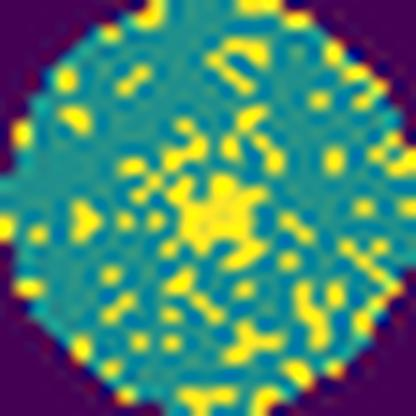Center: (162, 169, 275, 276)
